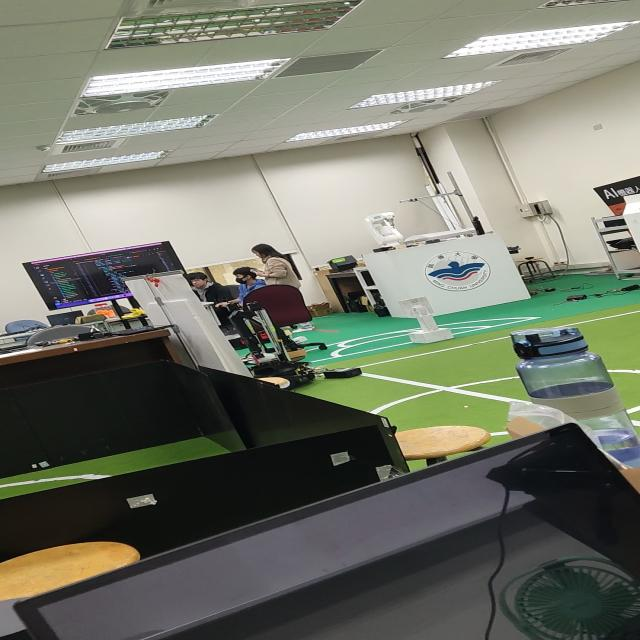person: (247, 234, 320, 339), (229, 260, 271, 292)
